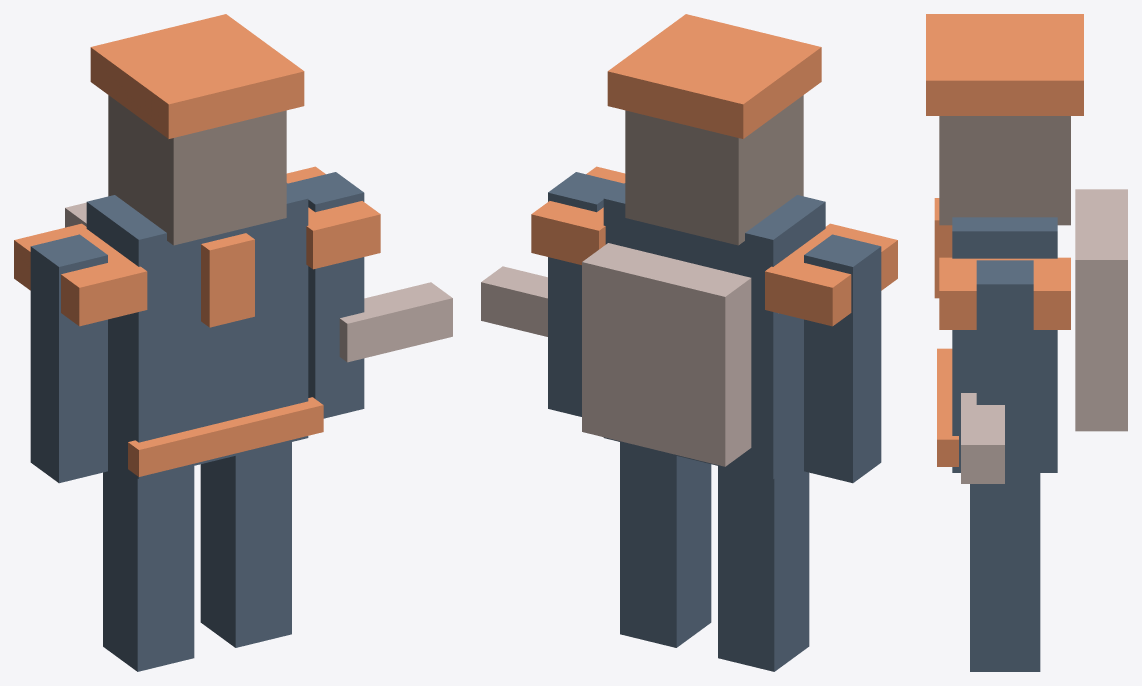
File: 04_vexa_wayfare_medic_near_missile.glb
3 views of the same model, side by side, from view 1: azimuth 30°, elevation 25°; view 2: azimuth 150°, elevation 25°; view 3: azimuth 270°, elevation 25° (orthographic).
Visible parts, largest first — view 1: Vexa Wayfare, Medic near Missile; view 2: Vexa Wayfare, Medic near Missile; view 3: Vexa Wayfare, Medic near Missile.
Boxes of the visible parts, <box> form: Vexa Wayfare, Medic near Missile: <box>14,14,452,671</box>; Vexa Wayfare, Medic near Missile: <box>481,14,897,671</box>; Vexa Wayfare, Medic near Missile: <box>926,14,1127,671</box>.
Bounding box in the file's own units: 1.11 × 1.59 × 0.4963.
